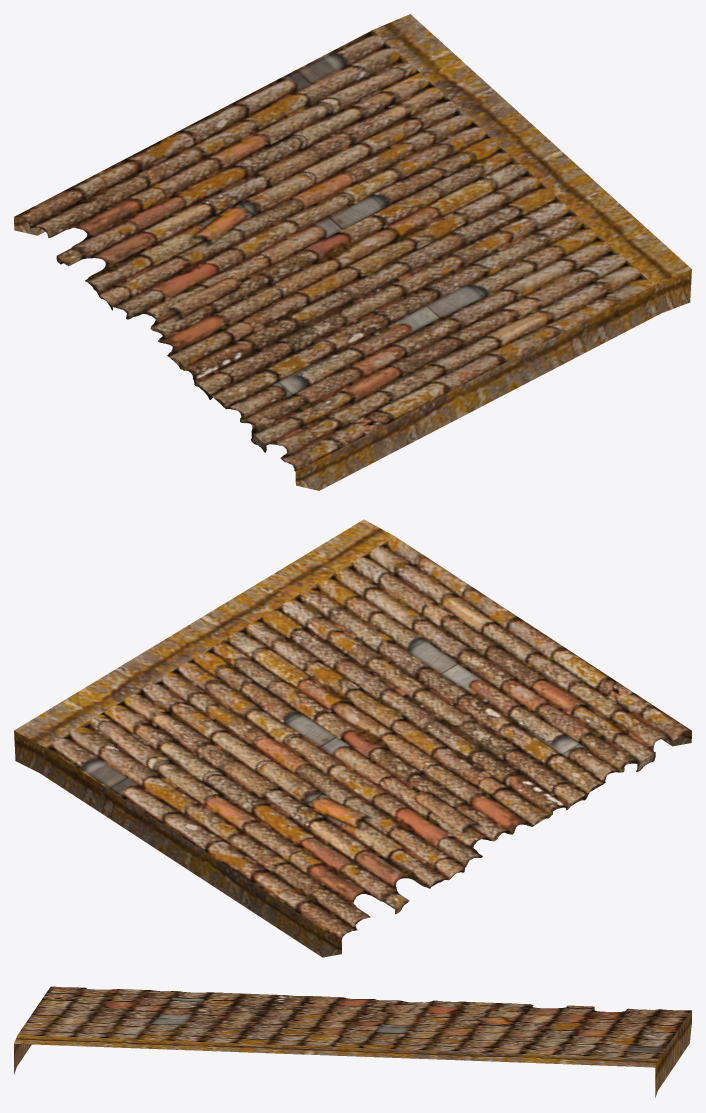
Rendered from hele_farmstead_roof.dae.
3 views of the same model, one above another, from view 1: azimuth 30°, elevation 25°; view 2: azimuth 150°, elevation 25°; view 3: azimuth 270°, elevation 25° (orthographic). The views are drawn at different scales.
Visible parts, largest first — view 1: Farmstead_Broken_Roof; view 2: Farmstead_Broken_Roof; view 3: Farmstead_Broken_Roof.
Part boxes in pixels (x1=…): Farmstead_Broken_Roof: x1=14, y1=14, x2=691, y2=490; Farmstead_Broken_Roof: x1=14, y1=519, x2=691, y2=957; Farmstead_Broken_Roof: x1=14, y1=986, x2=691, y2=1097.
Size of the model in its own units: 5.24 by 1.74 by 7.45.
